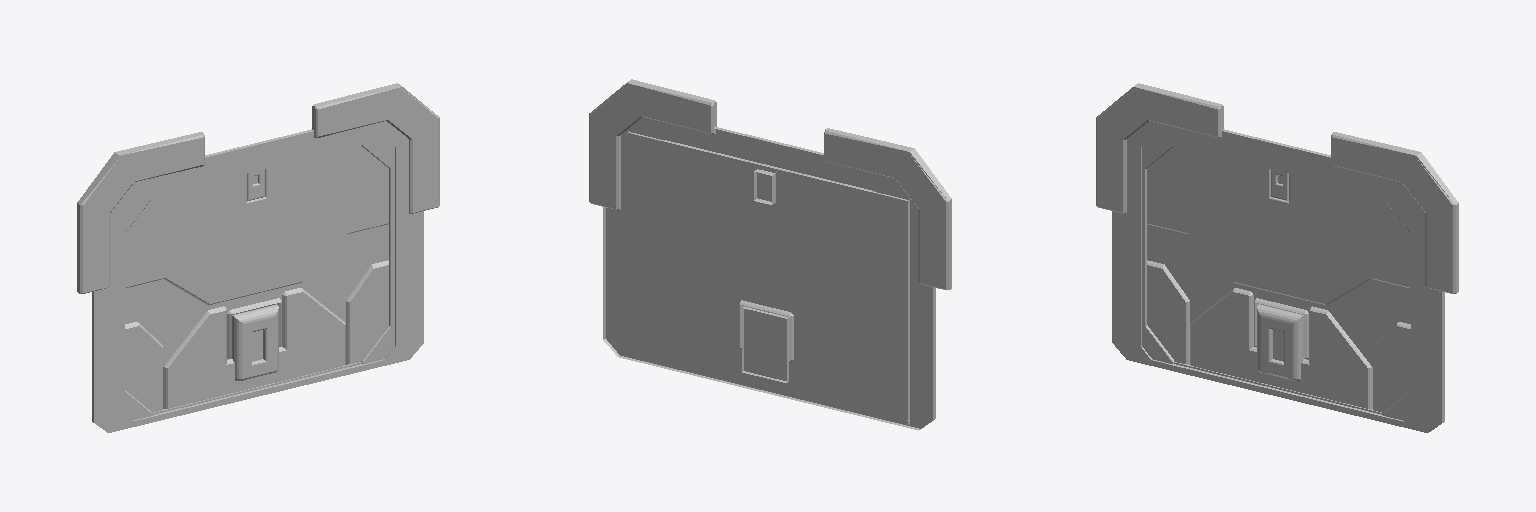
File: Door.obj
3 renders of one model, left to right at view 1: azimuth 30°, elevation 25°; view 2: azimuth 150°, elevation 25°; view 3: azimuth 330°, elevation 25°, orthographic.
Size of the model in its own units: 513 by 378 by 25.18.